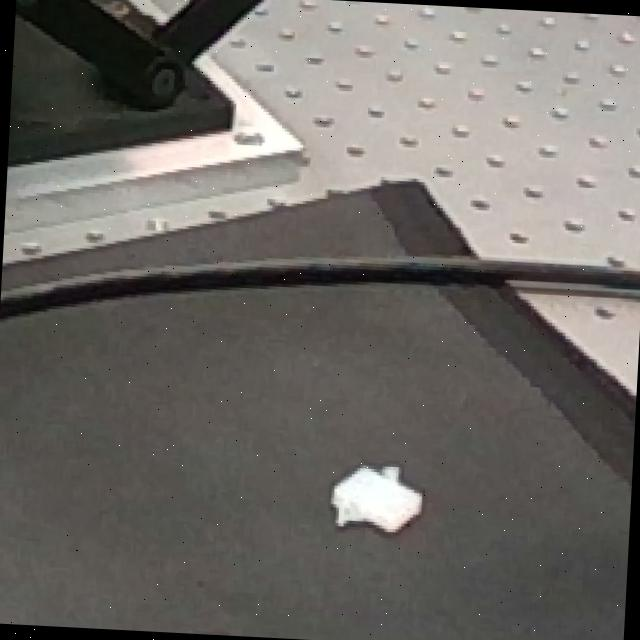Target: (317, 446, 428, 554), (129, 612, 267, 638)
